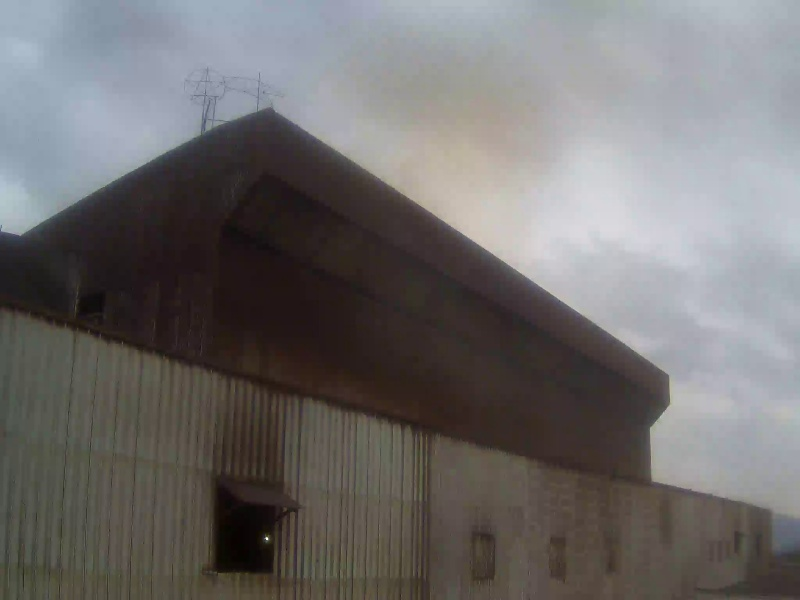Ruim: (367, 27, 539, 316)
